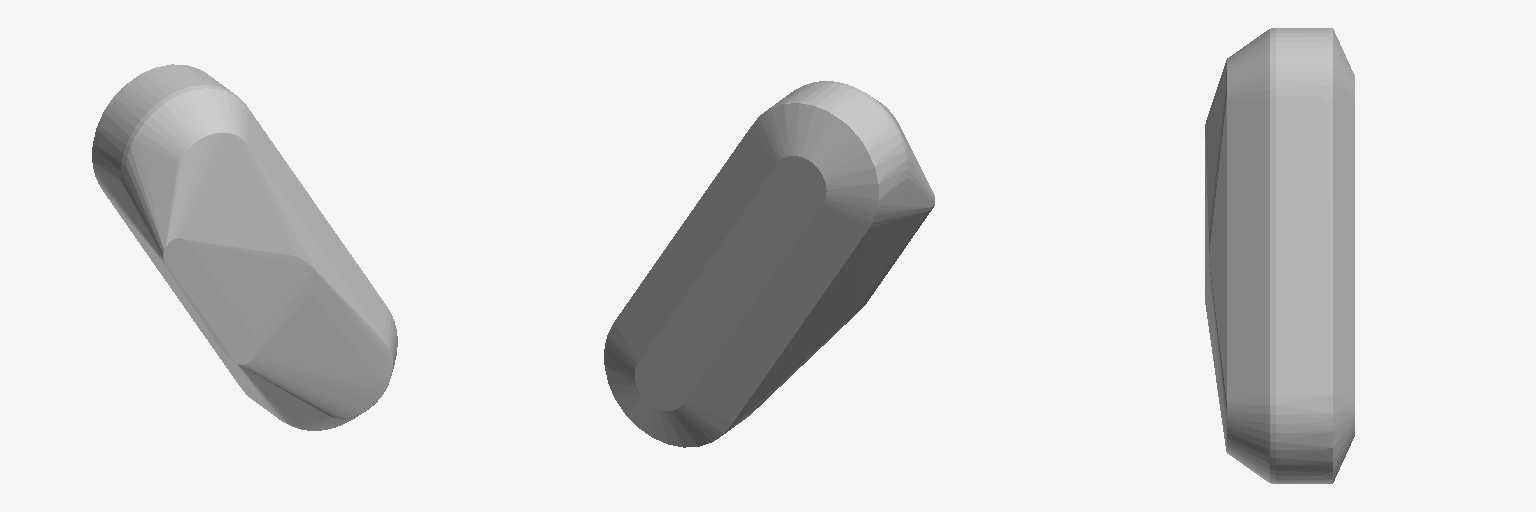
The model's file is left tibiotarsus.obj.
The picture shows the model from 3 angles: view 1: azimuth 30°, elevation 25°; view 2: azimuth 150°, elevation 25°; view 3: azimuth 270°, elevation 25°; orthographic projection.
Visible parts, largest first — view 1: obj1; view 2: obj1; view 3: obj1.
Boxes of the visible parts, <box> form: obj1: <box>92,64,397,430</box>; obj1: <box>604,81,934,447</box>; obj1: <box>1205,28,1354,483</box>.
Size of the model in its own units: 0.2103 by 0.2736 by 0.099.